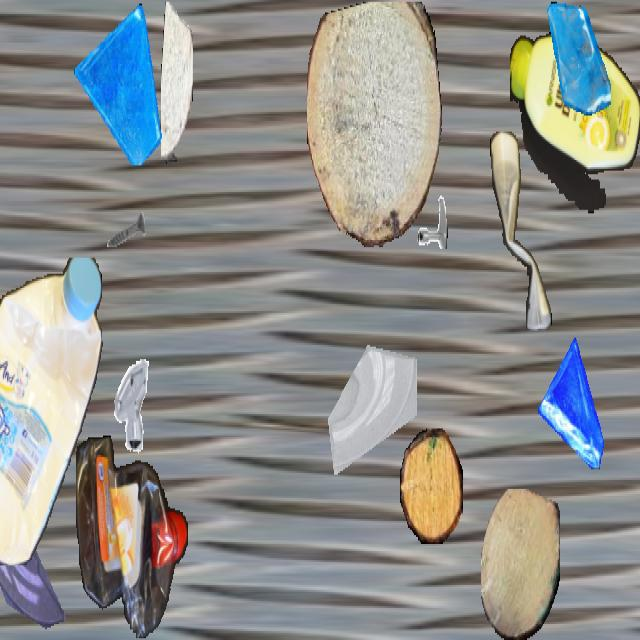glass: (324, 309, 416, 473), (74, 2, 166, 165), (538, 338, 612, 469), (0, 489, 65, 638), (547, 1, 611, 116), (0, 432, 10, 567)
metal: (100, 351, 158, 454), (406, 174, 448, 249), (105, 192, 147, 267)
plastic: (0, 257, 104, 564), (510, 32, 640, 213), (76, 436, 188, 638), (490, 132, 552, 330)
wood: (307, 2, 441, 247), (481, 489, 559, 638), (400, 428, 462, 542), (161, 2, 193, 162)
